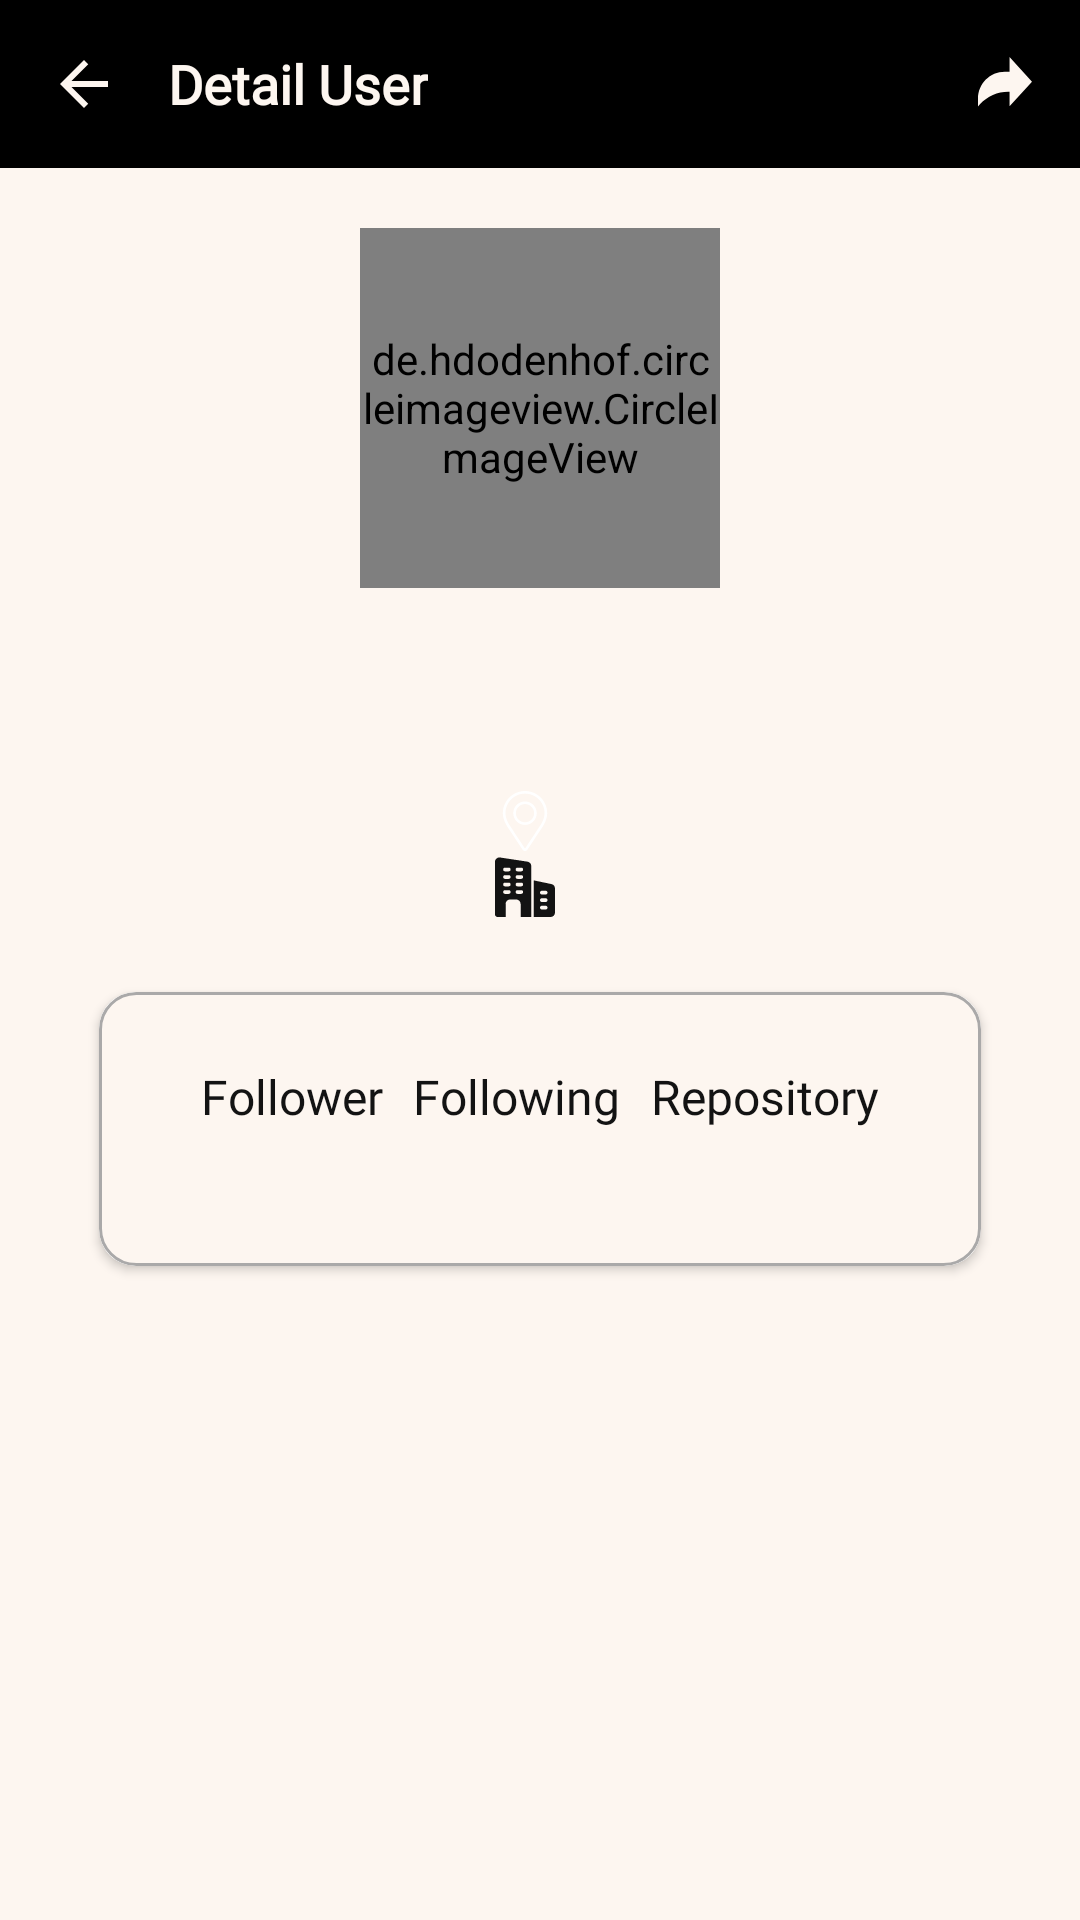

Where icons sit on this 1080px x 1920px app screen, as (x1, y1, x2, y2):
arrow back: (60, 60, 108, 108)
building: (495, 857, 555, 917)
share: (978, 57, 1032, 107)
